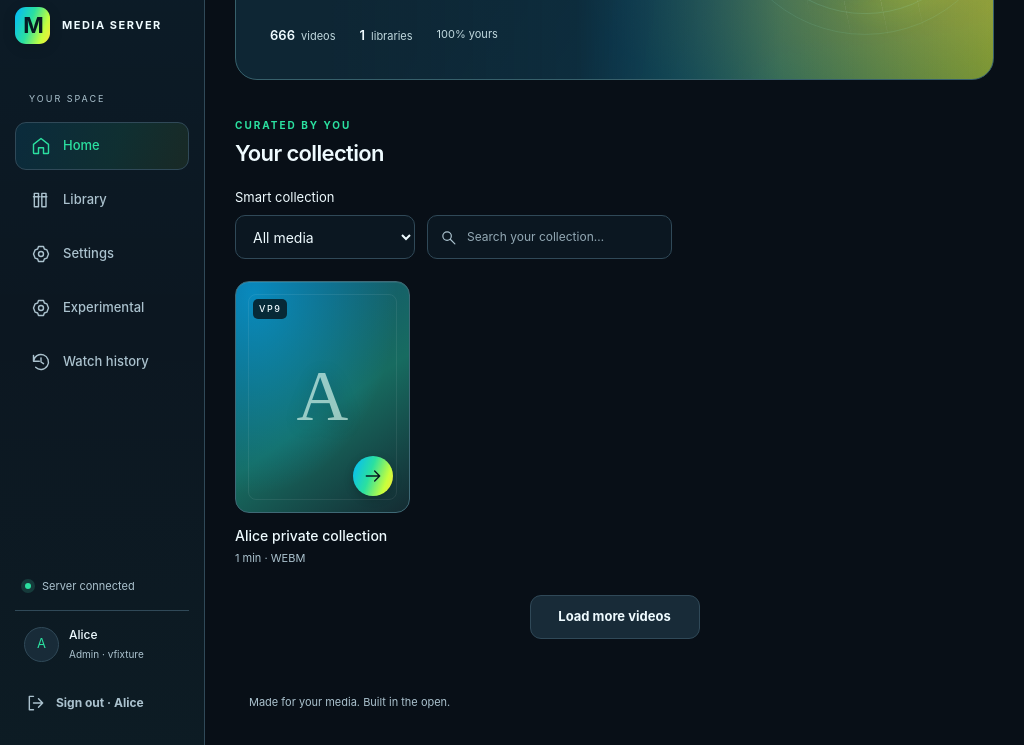
it: ignores a previous account’s delayed page after session expiration and a new login
(page scrolled)
expect the heading "Alice private collection" is shown: met, box [235,525,410,546]
expect the dropdown labelled "Smart collection" is shown: met, box [235,216,415,260]
Click the button "Load more videos" at (614, 616), box [530,594,700,638]
(page scrolled)
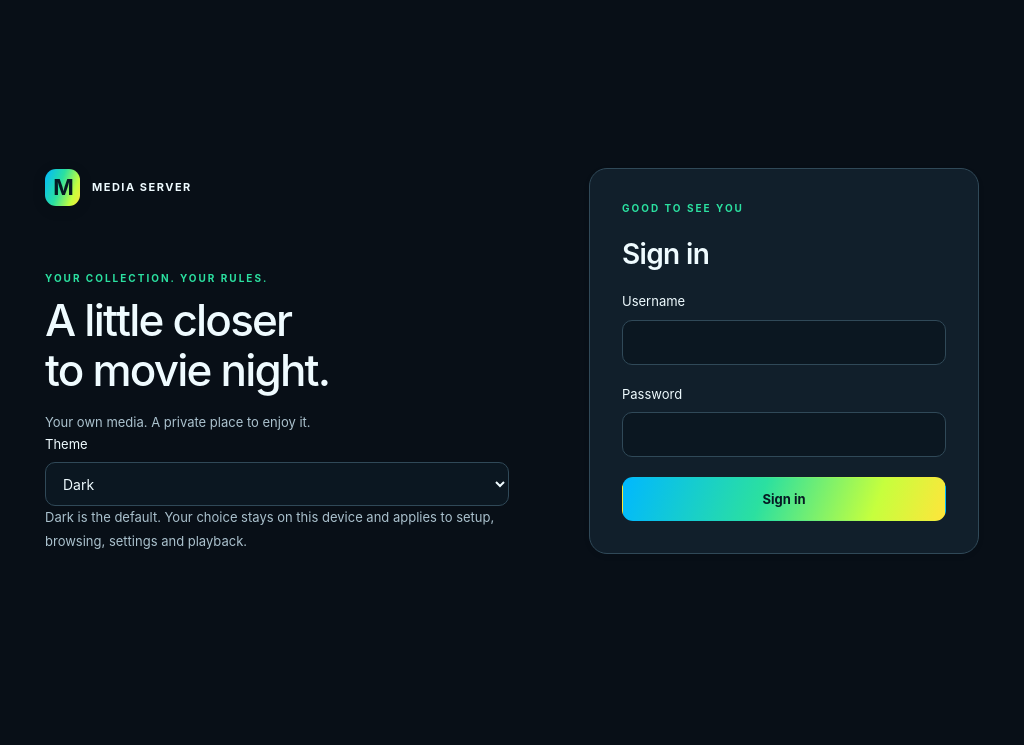
expect the heading "Sign in" is shown: met, box [622,237,709,271]
Type "Bob" into the field labelled "Username" at (784, 342), box [622,320,946,365]
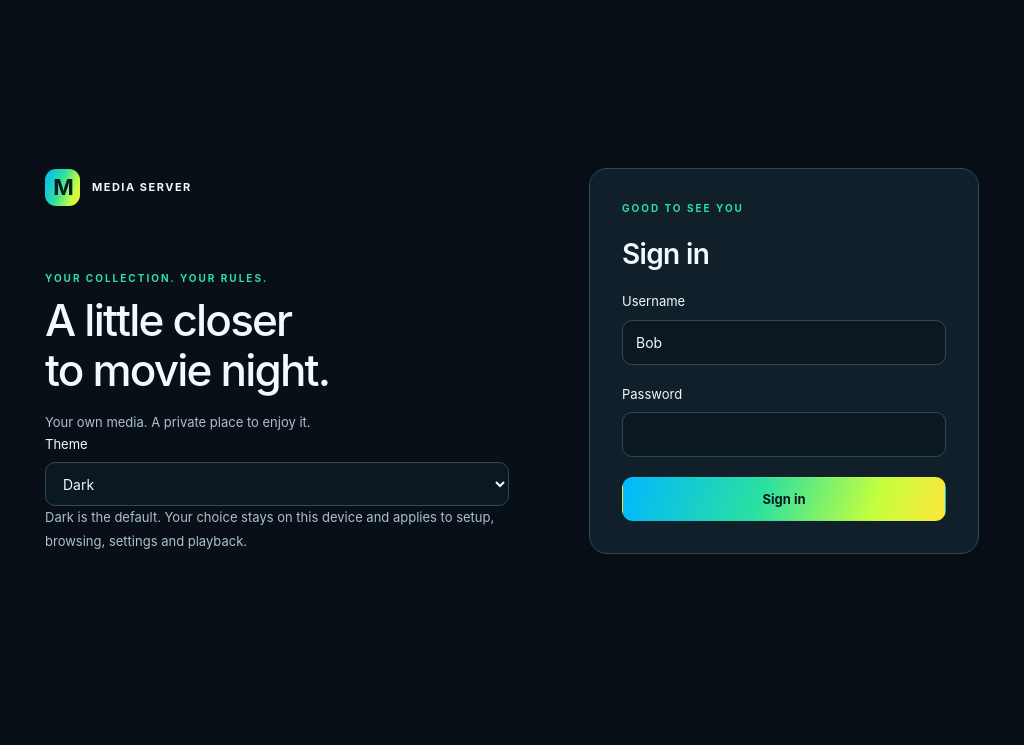
Type "bob-fixture-password" into the password field labelled "Password" at (784, 435), box [622,412,946,457]
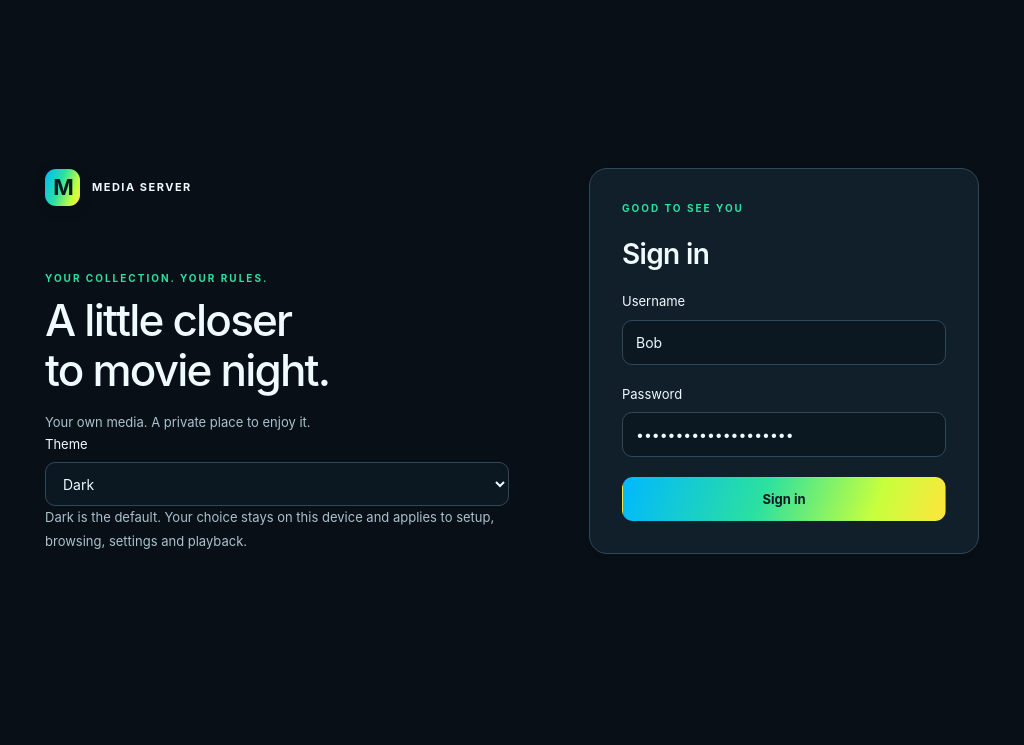
Submit the form "Sign in", box [589,168,979,554]
(page scrolled)
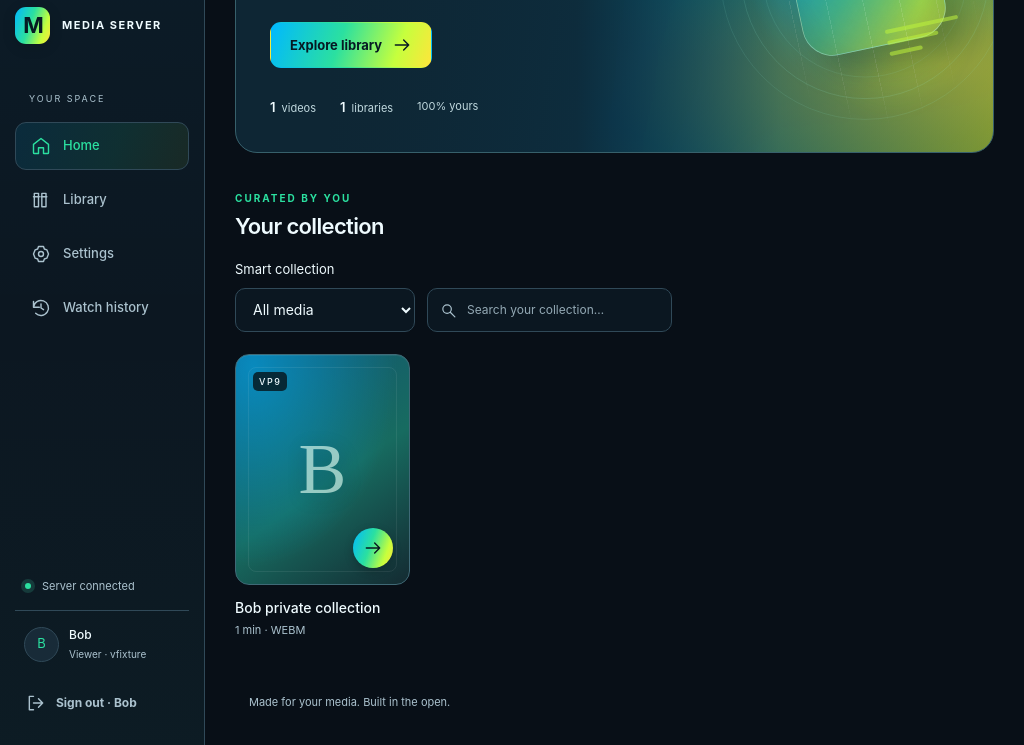
expect the text "666" is not shown: met
expect the heading "Bob private collection" is shown: met, box [235,599,380,616]
